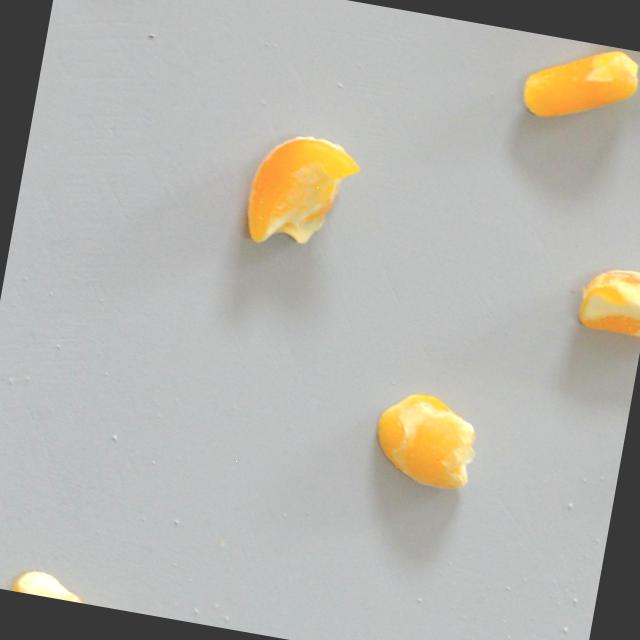estandar: (517, 35, 640, 137)
pelicula: (219, 134, 367, 250), (368, 386, 484, 503), (596, 231, 640, 377), (5, 568, 139, 612)
